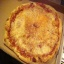pizza: (1, 6, 59, 62)
